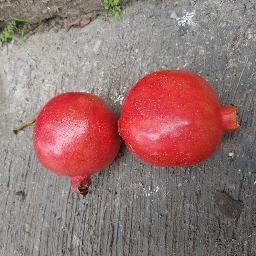pomegranate: (117, 70, 241, 168), (31, 92, 122, 194)
